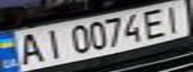0: (66, 21, 90, 54), (87, 18, 109, 51)
4: (121, 10, 148, 44)
7: (103, 15, 127, 47)
A: (9, 30, 48, 66)
E: (136, 6, 172, 39)
I: (36, 26, 69, 60), (157, 2, 190, 34)
